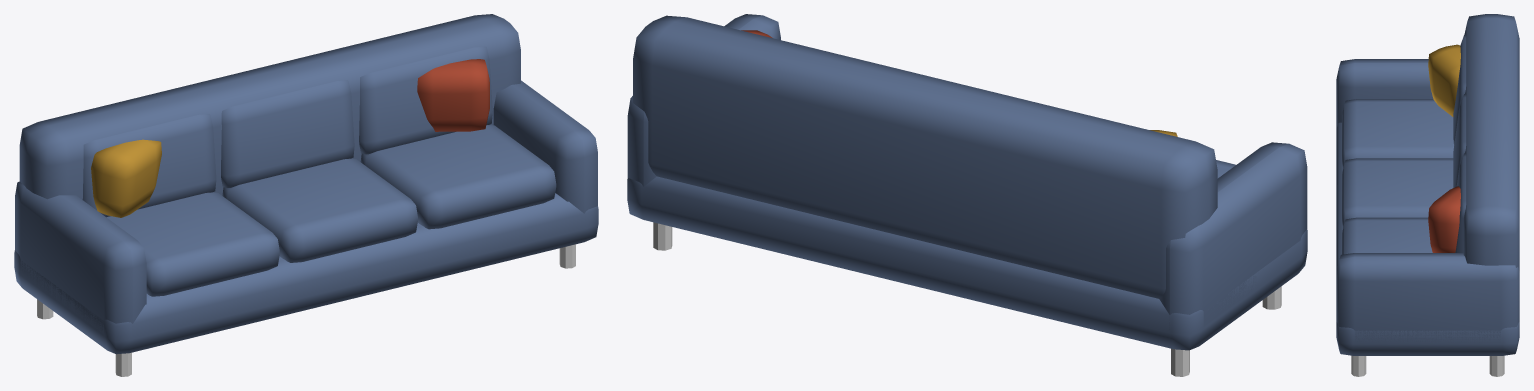
The model's file is sofa3.glb.
3 renders of one model, left to right at view 1: azimuth 30°, elevation 25°; view 2: azimuth 150°, elevation 25°; view 3: azimuth 270°, elevation 25°, orthographic. The views are drawn at different scales.
Parts seen in each view (by area): view 1: sofa3; view 2: sofa3; view 3: sofa3.
Boxes of the visible parts, x1=… form: sofa3: x1=14, y1=14, x2=598, y2=376; sofa3: x1=627, y1=14, x2=1307, y2=376; sofa3: x1=1336, y1=14, x2=1519, y2=376.
Size of the model in its own units: 3.05 by 1.13 by 1.13.
